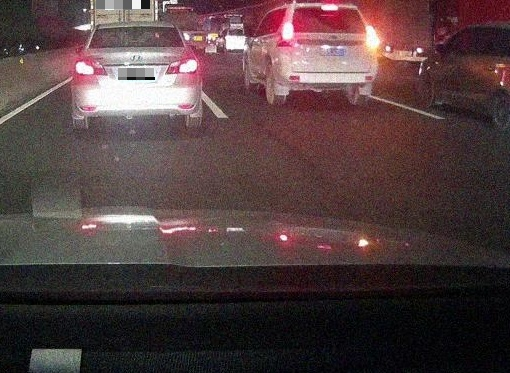L_light: (74, 56, 108, 76), (277, 21, 295, 47)
R_light: (165, 57, 198, 74), (365, 25, 379, 50)
T_light: (321, 5, 338, 11), (126, 26, 143, 28)
night-brake: (277, 3, 379, 105)
night-no: (71, 21, 203, 130)
plate_1: (96, 0, 150, 10)
plate_2: (118, 68, 155, 80)
